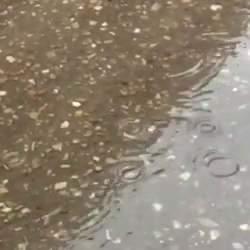drop: (194, 149, 239, 178), (160, 52, 202, 78), (118, 119, 145, 137), (115, 165, 142, 182), (2, 149, 24, 169), (193, 120, 219, 136)
